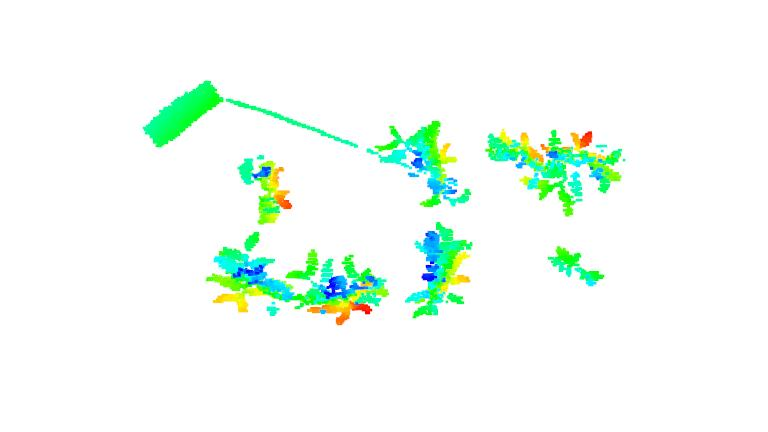chickpea: (537, 129, 633, 217), (373, 125, 469, 209), (288, 247, 389, 326), (202, 232, 290, 319), (409, 220, 473, 320), (240, 144, 300, 225), (482, 126, 549, 182), (551, 240, 607, 289)
